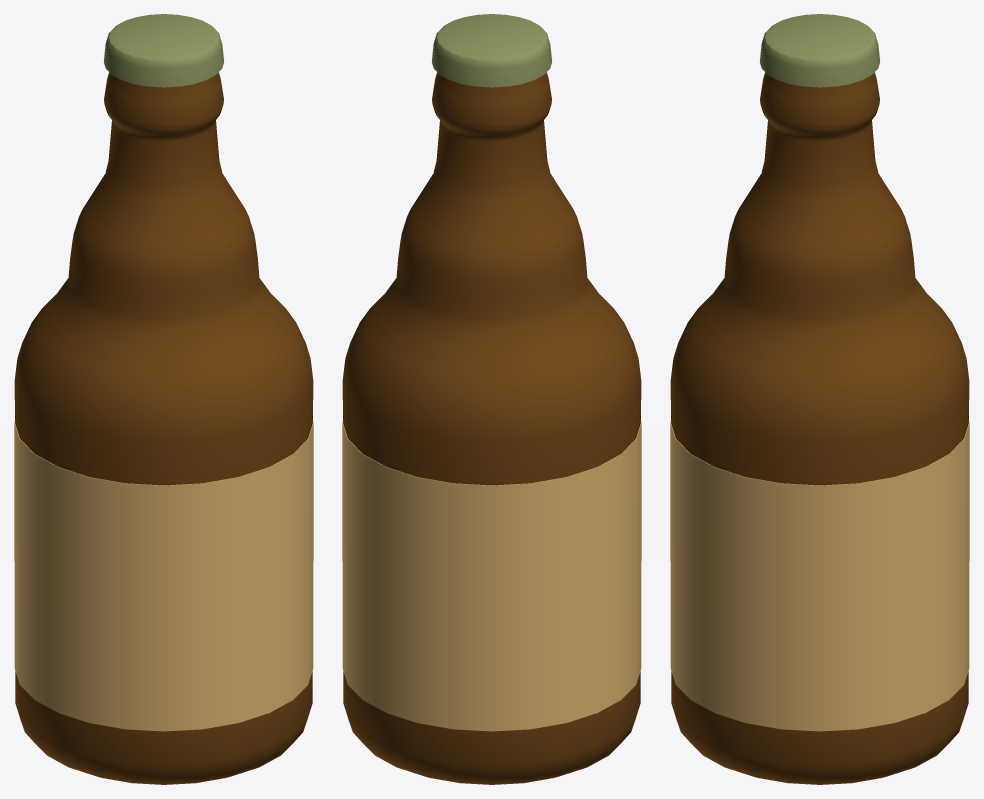
The model's file is astra_bottle.fbx.
The picture shows the model from 3 angles, left to right: view 1: azimuth 30°, elevation 25°; view 2: azimuth 150°, elevation 25°; view 3: azimuth 270°, elevation 25°; orthographic projection.
Visible parts, largest first — view 1: astra_bottle; view 2: astra_bottle; view 3: astra_bottle.
Boxes of the visible parts, left/top/right/bottom form: astra_bottle: left=14, top=14, right=313, bottom=784; astra_bottle: left=342, top=14, right=641, bottom=784; astra_bottle: left=670, top=14, right=969, bottom=784.
Bounding box in the file's own units: 4.62 × 11.85 × 4.62.
